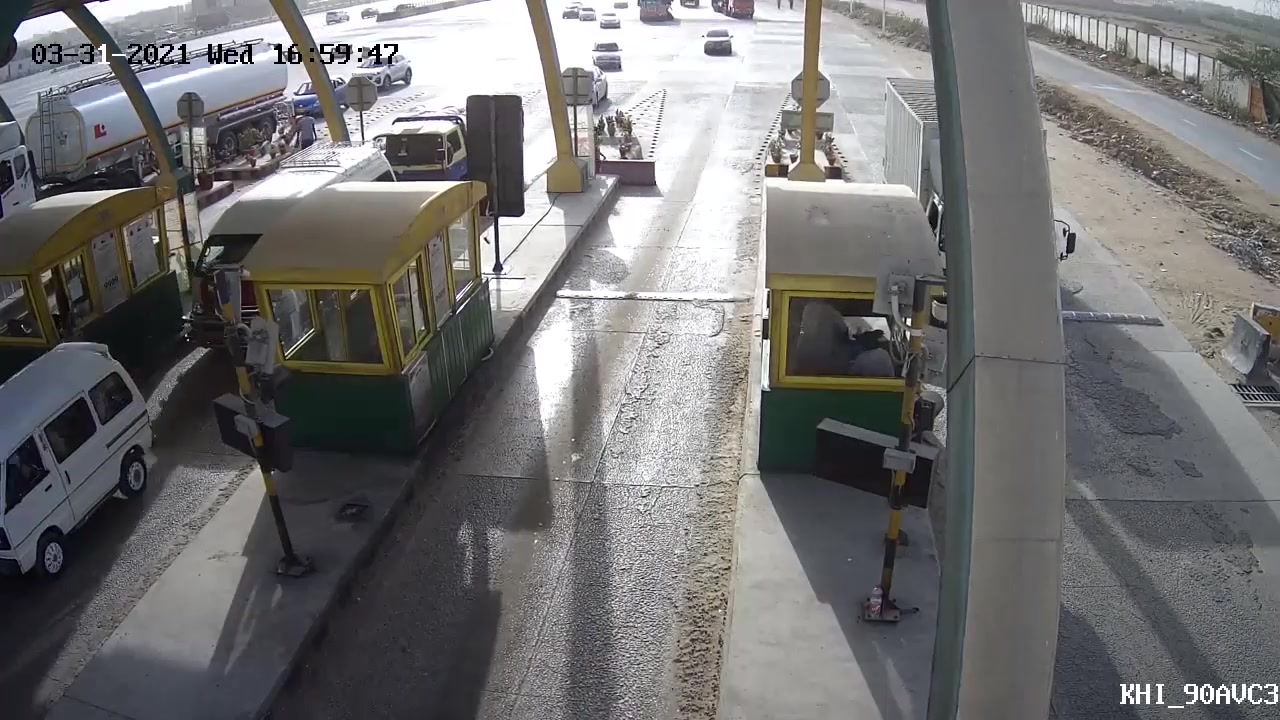F1: (696, 26, 739, 56)
